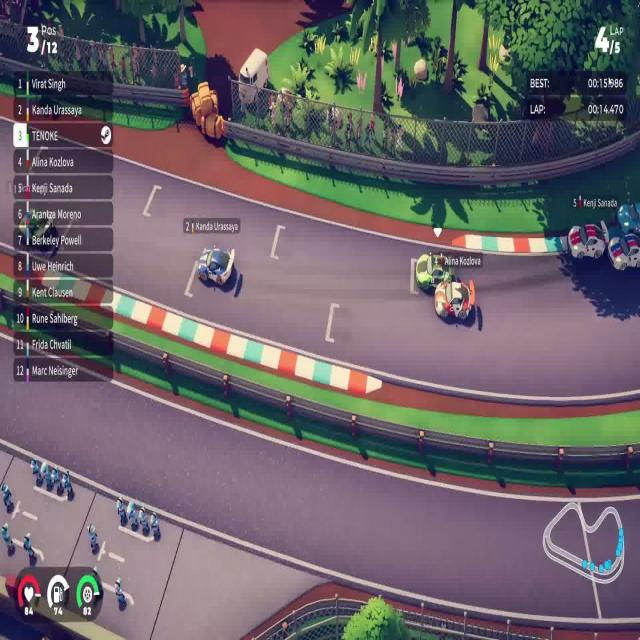car: (433, 274, 476, 323), (197, 244, 236, 288), (567, 221, 606, 262), (414, 254, 454, 288)
